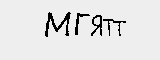Б: (53, 22, 67, 42)
Н: (117, 10, 144, 41)
С: (66, 17, 90, 43)
Т: (26, 21, 39, 38)
Я: (39, 23, 56, 41)
Ү: (88, 15, 116, 42)
